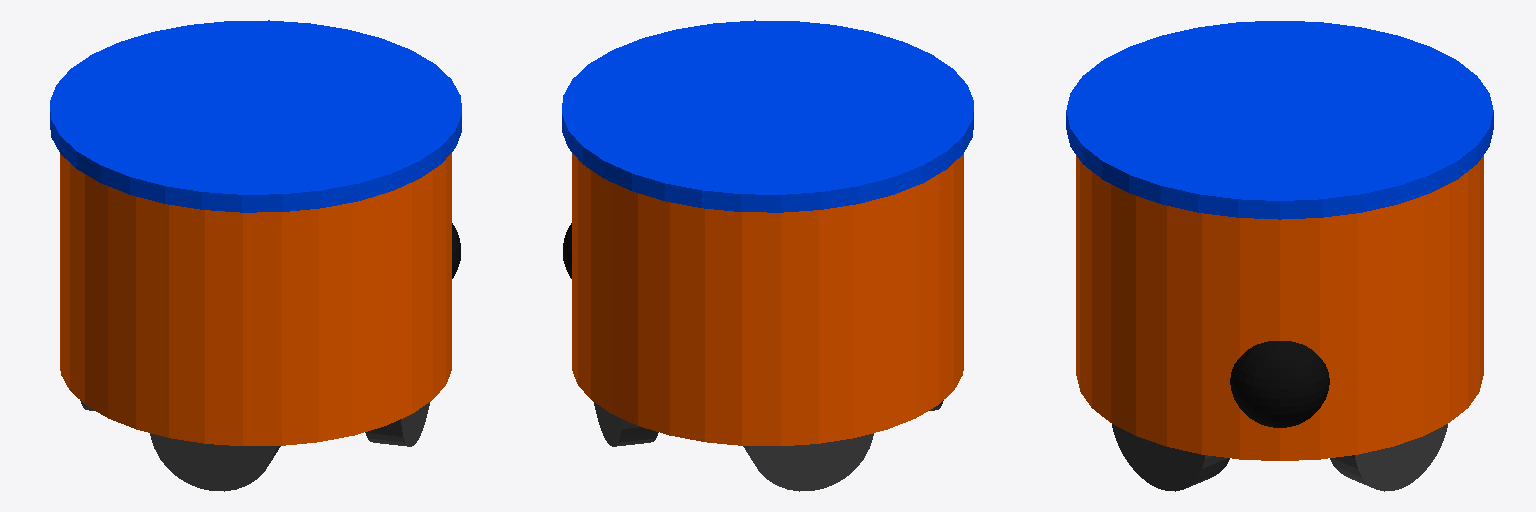
robot.urdf — omniwheel_robot:
<?xml version="1.0" ?>
<!-- =================================================================================== -->
<!-- |    This document was autogenerated by xacro from /home/docker_user/catkin_ws/src/contact_maintain/urdf/xacro/omniwheel_robot.urdf.xacro | -->
<!-- |    EDITING THIS FILE BY HAND IS NOT RECOMMENDED                                 | -->
<!-- =================================================================================== -->
<!--
  Omniwheel Robot URDF (Minimal Functional Version)
  
  A holonomic robot with 4 omniwheels at 45°, 135°, 225°, 315° from center.
  Uses friction trick: lateral_friction=0 on wheels to simulate omniwheel behavior.
  
  Based on Robotino 3 dimensions with added wheel assemblies.
-->
<robot name="omniwheel_robot">
  <!-- ==================== PARAMETERS ==================== -->
  <!-- ==================== MATERIALS ==================== -->
  <material name="orange">
    <color rgba="1.0 0.4 0.0 1.0"/>
  </material>
  <material name="black">
    <color rgba="0.1 0.1 0.1 1.0"/>
  </material>
  <material name="dark_gray">
    <color rgba="0.3 0.3 0.3 1.0"/>
  </material>
  <material name="blue">
    <color rgba="0.0 0.33 1.0 1.0"/>
  </material>
  <!-- ==================== WORLD LINK ==================== -->
  <link name="world"/>
  <!-- ==================== PLANAR JOINTS (for velocity control) ==================== -->
  <!-- X translation joint -->
  <joint name="x_joint" type="prismatic">
    <parent link="world"/>
    <child link="x_carrier"/>
    <origin rpy="0 0 0" xyz="0 0 0.02"/>
    <axis xyz="1 0 0"/>
    <limit effort="1000" lower="-100" upper="100" velocity="10"/>
    <dynamics damping="1.0"/>
  </joint>
  <link name="x_carrier">
    <inertial>
      <mass value="0.01"/>
      <inertia ixx="0.0001" ixy="0" ixz="0" iyy="0.0001" iyz="0" izz="0.0001"/>
    </inertial>
  </link>
  <!-- Y translation joint -->
  <joint name="y_joint" type="prismatic">
    <parent link="x_carrier"/>
    <child link="y_carrier"/>
    <origin rpy="0 0 0" xyz="0 0 0"/>
    <axis xyz="0 1 0"/>
    <limit effort="1000" lower="-100" upper="100" velocity="10"/>
    <dynamics damping="1.0"/>
  </joint>
  <link name="y_carrier">
    <inertial>
      <mass value="0.01"/>
      <inertia ixx="0.0001" ixy="0" ixz="0" iyy="0.0001" iyz="0" izz="0.0001"/>
    </inertial>
  </link>
  <!-- Theta rotation joint -->
  <joint name="theta_joint" type="continuous">
    <parent link="y_carrier"/>
    <child link="base_link"/>
    <origin rpy="0 0 0" xyz="0 0 0"/>
    <axis xyz="0 0 1"/>
    <limit effort="1000" velocity="20"/>
    <dynamics damping="0.5"/>
  </joint>
  <!-- ==================== BASE LINK ==================== -->
  <link name="base_link">
    <!-- Main cylindrical body -->
    <visual>
      <geometry>
        <cylinder length="0.08" radius="0.06"/>
      </geometry>
      <origin rpy="0 0 0" xyz="0 0 0.04"/>
      <material name="orange"/>
    </visual>
    <!-- Top marker ring -->
    <visual>
      <geometry>
        <cylinder length="0.006" radius="0.063"/>
      </geometry>
      <origin rpy="0 0 0" xyz="0 0 0.083"/>
      <material name="blue"/>
    </visual>
    <collision>
      <geometry>
        <cylinder length="0.08" radius="0.06"/>
      </geometry>
      <origin rpy="0 0 0" xyz="0 0 0.04"/>
    </collision>
    <inertial>
      <mass value="0.8"/>
      <origin xyz="0 0 0.04"/>
      <!-- Cylinder inertia: Ixx=Iyy=m(3r^2+h^2)/12, Izz=mr^2/2 -->
      <inertia ixx="0.0011466666666666667" ixy="0" ixz="0" iyy="0.0011466666666666667" iyz="0" izz="0.0014399999999999999"/>
    </inertial>
  </link>
  <!-- ==================== BUMPER ==================== -->
  <joint name="bumper_joint" type="fixed">
    <parent link="base_link"/>
    <child link="bumper"/>
    <origin rpy="0 0 0" xyz="0.055 0 0.025"/>
  </joint>
  <link name="bumper">
    <visual>
      <geometry>
        <sphere radius="0.015"/>
      </geometry>
      <material name="black"/>
    </visual>
    <collision>
      <geometry>
        <sphere radius="0.015"/>
      </geometry>
    </collision>
    <inertial>
      <mass value="0.2"/>
      <inertia ixx="0.0001" ixy="0" ixz="0" iyy="0.0001" iyz="0" izz="0.0001"/>
    </inertial>
  </link>
  <!-- ==================== WHEEL MACRO ==================== -->
  <!-- ==================== WHEEL INSTANCES ==================== -->
  <!-- Wheels at 45°, 135°, 225°, 315° from center -->
  <joint name="wheel_fr_joint" type="continuous">
    <parent link="base_link"/>
    <child link="wheel_fr_link"/>
    <origin rpy="-1.5708 0 0.785398" xyz="0.031814999999999996 -0.031814999999999996 0"/>
    <axis xyz="0 0 1"/>
    <limit effort="100" velocity="100"/>
    <dynamics damping="0.01"/>
  </joint>
  <link name="wheel_fr_link">
    <visual>
      <geometry>
        <cylinder length="0.012" radius="0.02"/>
      </geometry>
      <material name="dark_gray"/>
    </visual>
    <collision>
      <geometry>
        <cylinder length="0.012" radius="0.02"/>
      </geometry>
    </collision>
    <inertial>
      <mass value="0.05"/>
      <inertia ixx="5.6e-06" ixy="0" ixz="0" iyy="5.6e-06" iyz="0" izz="1e-05"/>
    </inertial>
  </link>
  <joint name="wheel_fl_joint" type="continuous">
    <parent link="base_link"/>
    <child link="wheel_fl_link"/>
    <origin rpy="-1.5708 0 2.356194" xyz="0.031814999999999996 0.031814999999999996 0"/>
    <axis xyz="0 0 1"/>
    <limit effort="100" velocity="100"/>
    <dynamics damping="0.01"/>
  </joint>
  <link name="wheel_fl_link">
    <visual>
      <geometry>
        <cylinder length="0.012" radius="0.02"/>
      </geometry>
      <material name="dark_gray"/>
    </visual>
    <collision>
      <geometry>
        <cylinder length="0.012" radius="0.02"/>
      </geometry>
    </collision>
    <inertial>
      <mass value="0.05"/>
      <inertia ixx="5.6e-06" ixy="0" ixz="0" iyy="5.6e-06" iyz="0" izz="1e-05"/>
    </inertial>
  </link>
  <joint name="wheel_rl_joint" type="continuous">
    <parent link="base_link"/>
    <child link="wheel_rl_link"/>
    <origin rpy="-1.5708 0 3.926991" xyz="-0.031814999999999996 0.031814999999999996 0"/>
    <axis xyz="0 0 1"/>
    <limit effort="100" velocity="100"/>
    <dynamics damping="0.01"/>
  </joint>
  <link name="wheel_rl_link">
    <visual>
      <geometry>
        <cylinder length="0.012" radius="0.02"/>
      </geometry>
      <material name="dark_gray"/>
    </visual>
    <collision>
      <geometry>
        <cylinder length="0.012" radius="0.02"/>
      </geometry>
    </collision>
    <inertial>
      <mass value="0.05"/>
      <inertia ixx="5.6e-06" ixy="0" ixz="0" iyy="5.6e-06" iyz="0" izz="1e-05"/>
    </inertial>
  </link>
  <joint name="wheel_rr_joint" type="continuous">
    <parent link="base_link"/>
    <child link="wheel_rr_link"/>
    <origin rpy="-1.5708 0 5.497787" xyz="-0.031814999999999996 -0.031814999999999996 0"/>
    <axis xyz="0 0 1"/>
    <limit effort="100" velocity="100"/>
    <dynamics damping="0.01"/>
  </joint>
  <link name="wheel_rr_link">
    <visual>
      <geometry>
        <cylinder length="0.012" radius="0.02"/>
      </geometry>
      <material name="dark_gray"/>
    </visual>
    <collision>
      <geometry>
        <cylinder length="0.012" radius="0.02"/>
      </geometry>
    </collision>
    <inertial>
      <mass value="0.05"/>
      <inertia ixx="5.6e-06" ixy="0" ixz="0" iyy="5.6e-06" iyz="0" izz="1e-05"/>
    </inertial>
  </link>
</robot>

--- What the picture shows (computed from the rendered views, not written in the file) ---
Views: 3 orthographic renders of the robot side by side, from view 1: azimuth 30°, elevation 25°; view 2: azimuth 150°, elevation 25°; view 3: azimuth 270°, elevation 25°.
Robot: omniwheel_robot — 9 links, 8 joints (5 continuous, 2 prismatic, 1 fixed); root link world; default pose: every joint at zero.
Visible links, largest first — view 1: base_link, wheel_rr_link, wheel_fr_link; view 2: base_link, wheel_rl_link, wheel_fl_link; view 3: base_link, bumper, wheel_fr_link, wheel_fl_link.
Boxes of the visible links, box(x1,y1,x2,y2) form: base_link: box(50, 20, 461, 445); wheel_rr_link: box(150, 433, 280, 491); wheel_fr_link: box(365, 402, 429, 446); base_link: box(562, 20, 973, 445); wheel_rl_link: box(743, 433, 873, 491); wheel_fl_link: box(594, 402, 658, 446); base_link: box(1066, 21, 1493, 460); bumper: box(1230, 341, 1329, 427); wheel_fr_link: box(1112, 424, 1229, 491); wheel_fl_link: box(1330, 424, 1447, 491).
Size in the robot's own frame: 0.133 by 0.126 by 0.106 metres.
Geometry: primitives only (box / cylinder / sphere), no mesh files.
